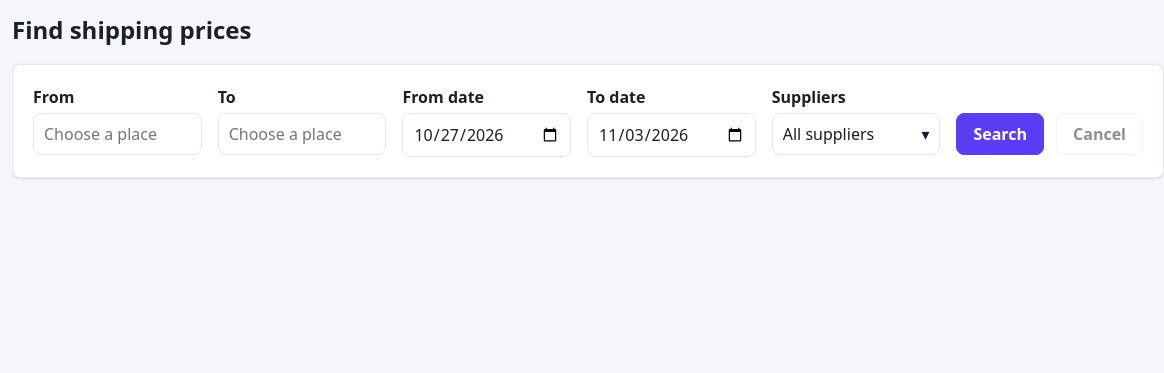
Scenario: SearchPageComponent › shows the message when the search fails
Step 1. Type "Rotterdam" into the dropdown with id "fromLocation" → (117, 134), box 33,113 -> 202,155
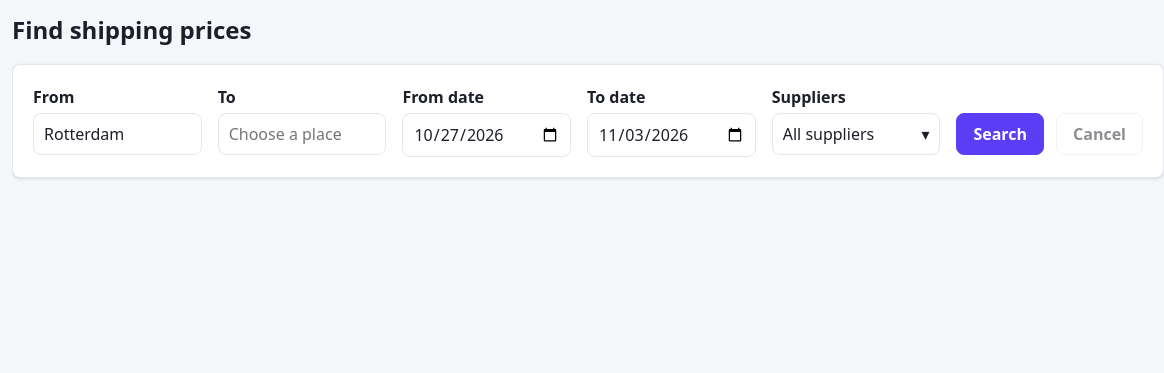
Step 2. Type "Hamburg" into the dropdown with id "toLocation" → (302, 134), box 218,113 -> 386,155
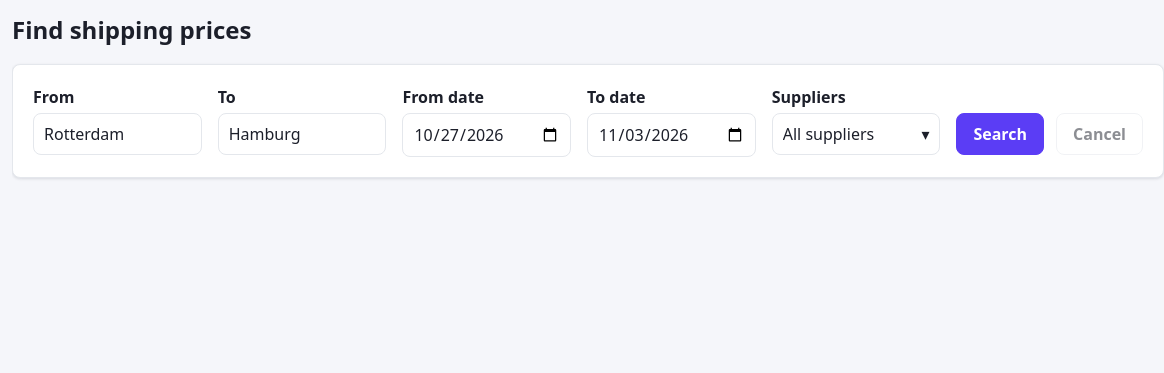
Step 3. Submit the form, box 12,64 -> 1163,178
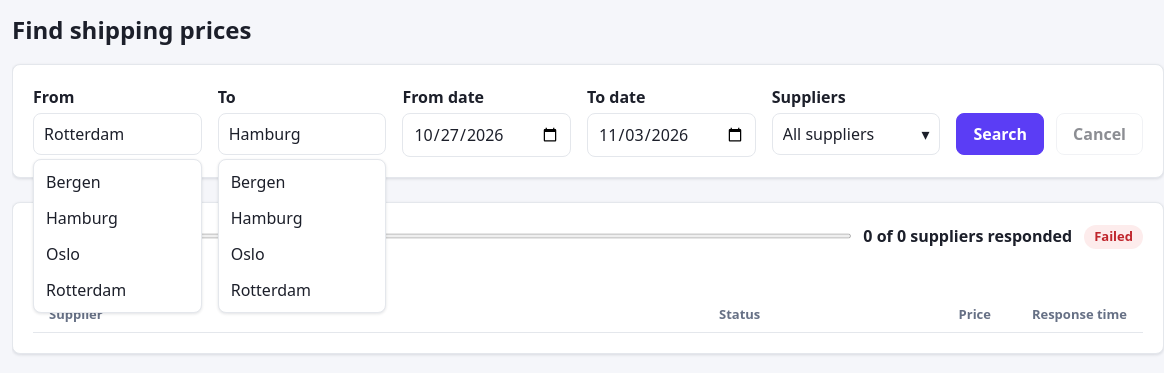
Result: the message "The server is down." is shown at 33,266 -> 178,288
